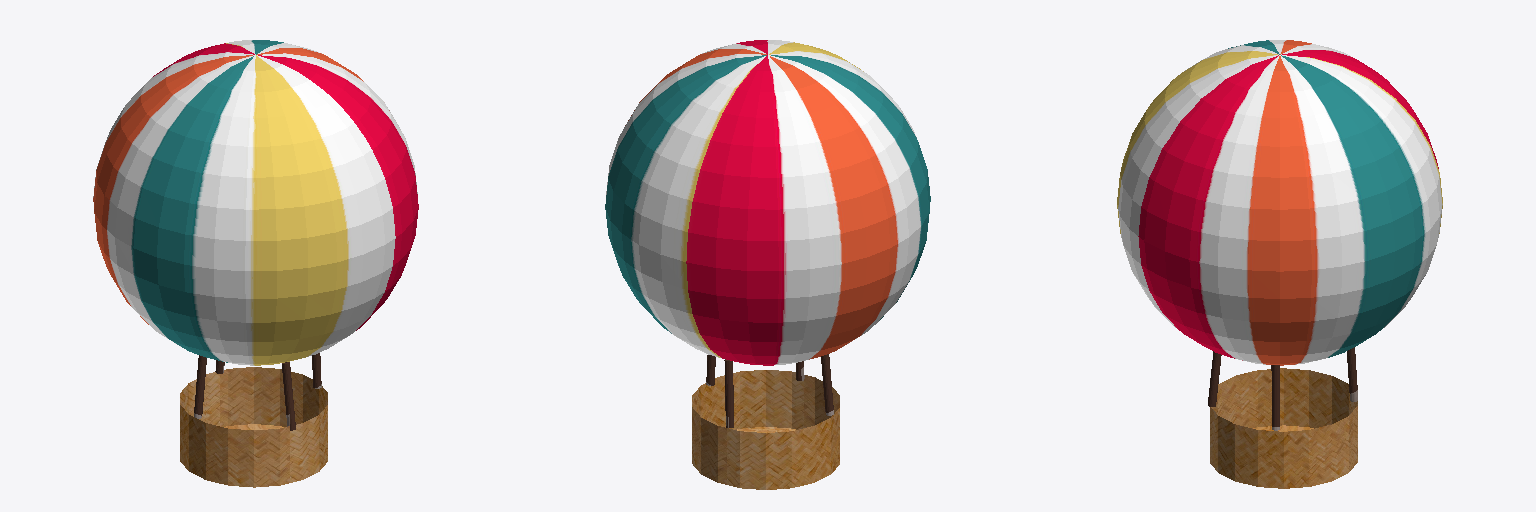
The picture shows the model from 3 angles: view 1: azimuth 30°, elevation 25°; view 2: azimuth 150°, elevation 25°; view 3: azimuth 270°, elevation 25°; orthographic projection.
Visible parts, largest first — view 1: Sphere001, Cylinder001; view 2: Sphere001, Cylinder001; view 3: Sphere001, Cylinder001.
Part boxes in pixels (x1,y1,x2,y2): Sphere001: (93,40,418,365); Cylinder001: (180,353,327,487); Sphere001: (605,40,930,365); Cylinder001: (692,354,839,489); Sphere001: (1117,40,1442,365); Cylinder001: (1208,347,1357,488).
Size of the model in its own units: 5.74 by 7.81 by 5.74.
Materials: 3 (3 with a texture image).